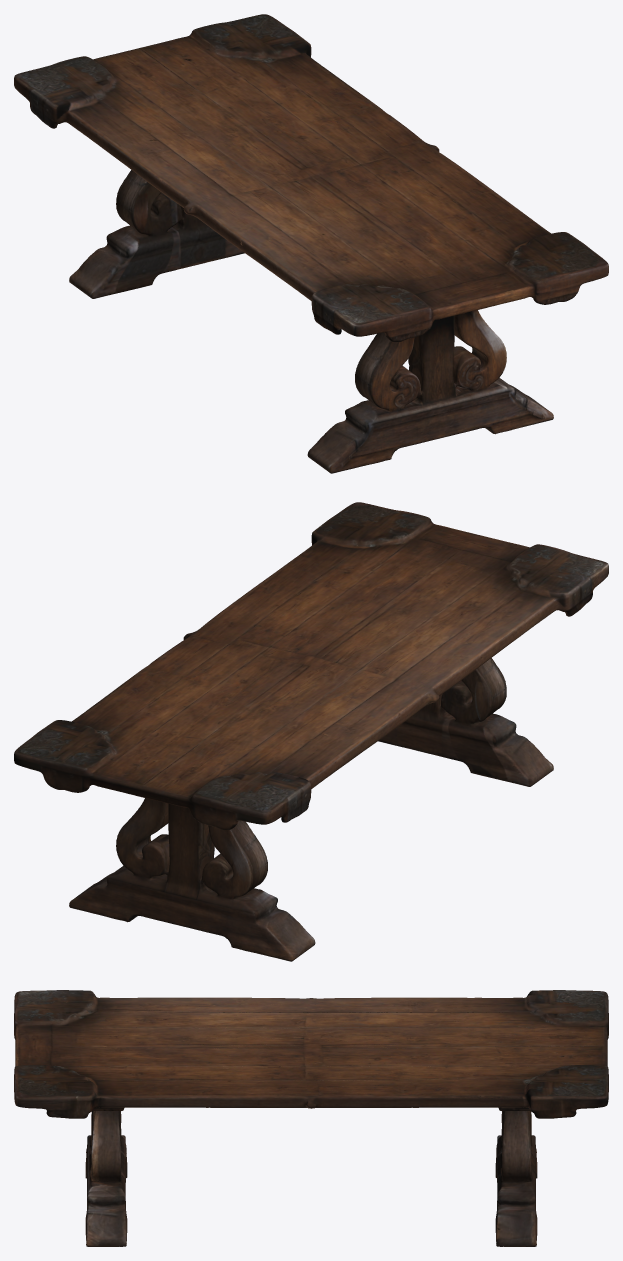
The model's file is long_wooden_dining_ta_0613145139_texture.fbx.
The picture shows the model from 3 angles, top to bottom: view 1: azimuth 30°, elevation 25°; view 2: azimuth 150°, elevation 25°; view 3: azimuth 270°, elevation 25°; orthographic projection. The views are drawn at different scales.
Visible parts, largest first — view 1: Mesh1_Mesh1.087; view 2: Mesh1_Mesh1.087; view 3: Mesh1_Mesh1.087.
Part boxes in pixels (x1=…): Mesh1_Mesh1.087: x1=14, y1=14, x2=608, y2=473; Mesh1_Mesh1.087: x1=14, y1=502, x2=608, y2=961; Mesh1_Mesh1.087: x1=14, y1=990, x2=608, y2=1246.
Size of the model in its own units: 86.23 by 58.56 by 200.
1 material, 1 textured.
